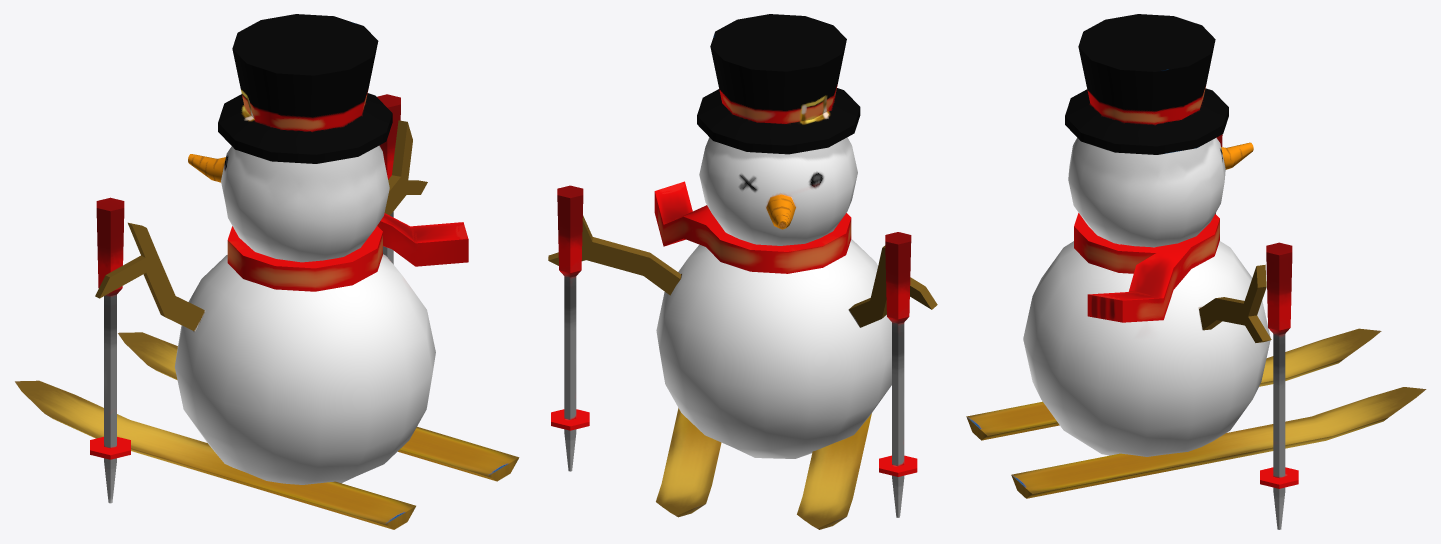
Rendered from Snow_man.fbx.
The picture shows the model from 3 angles, left to right: view 1: azimuth 30°, elevation 25°; view 2: azimuth 150°, elevation 25°; view 3: azimuth 270°, elevation 25°; orthographic projection. The views are drawn at different scales.
Parts seen in each view (by area): view 1: SnowMan; view 2: SnowMan; view 3: SnowMan.
Part boxes in pixels (box(x1,y1,x2,y2)): SnowMan: box(15, 14, 519, 529); SnowMan: box(548, 14, 937, 529); SnowMan: box(966, 14, 1426, 529).
Size of the model in its own units: 1.89 by 2.15 by 2.16.
Materials: 1 (1 with a texture image).
